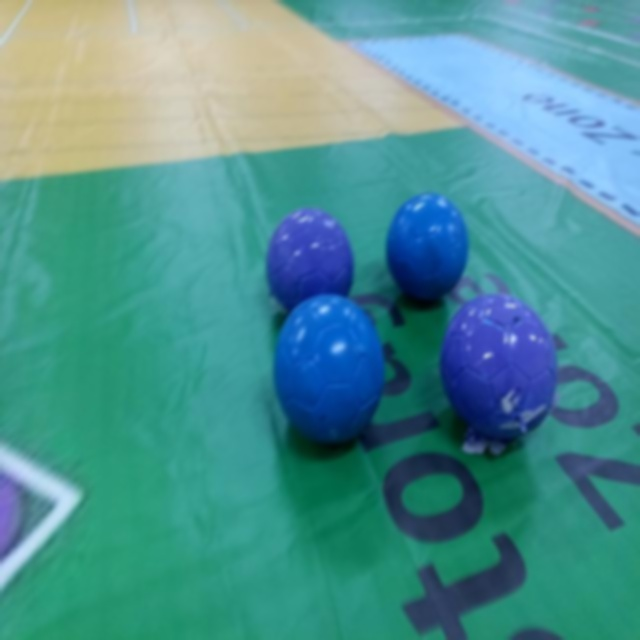purple_ball: (446, 297, 554, 438), (278, 297, 381, 441), (268, 214, 354, 305)
